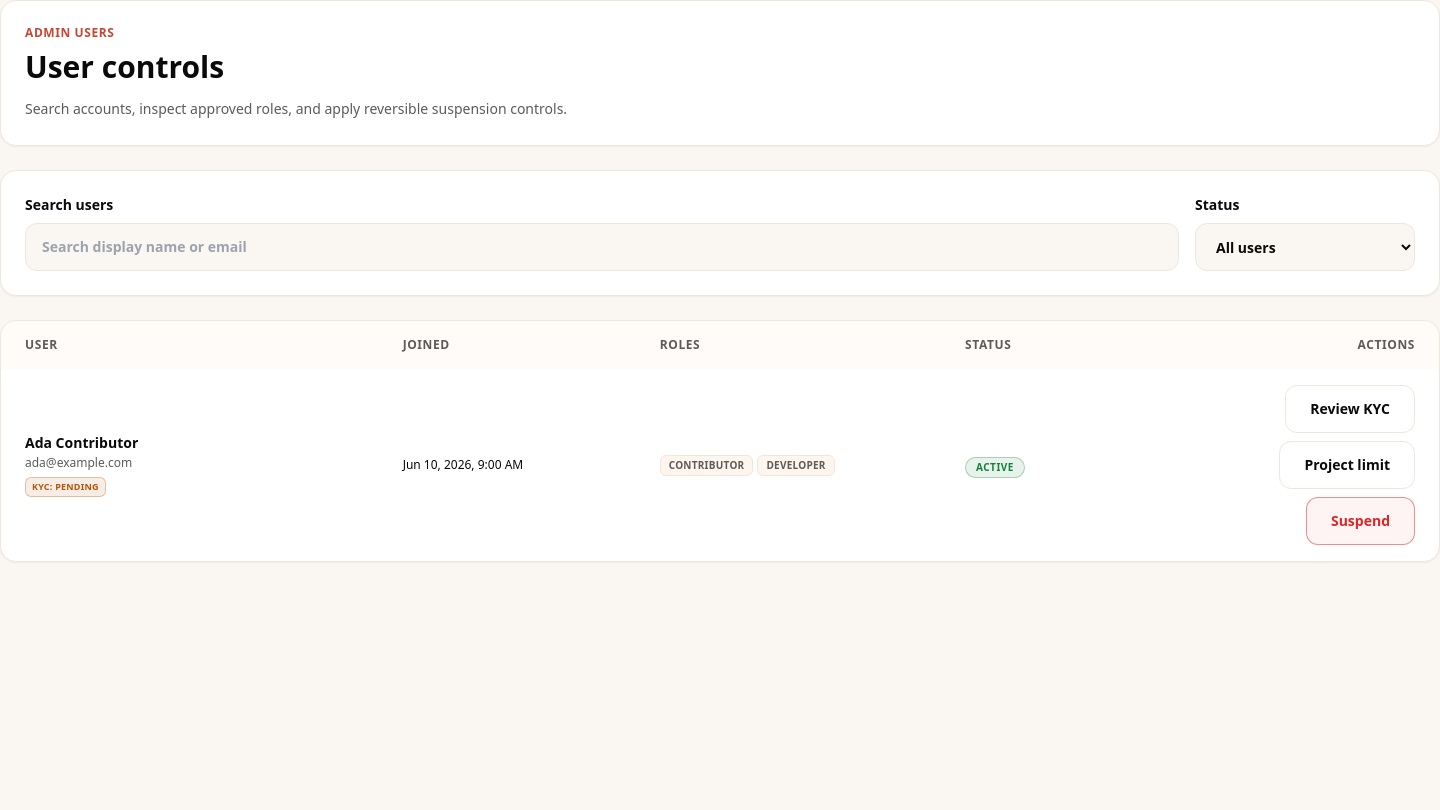
AdminUserDirectoryPanel › accepts a four-figure ceiling and refuses an implausible one
The width and height of the screenshot is (1440, 810).
Click the button "Project limit" at (1347, 465), box [1279,441,1415,489]
(page scrolled)
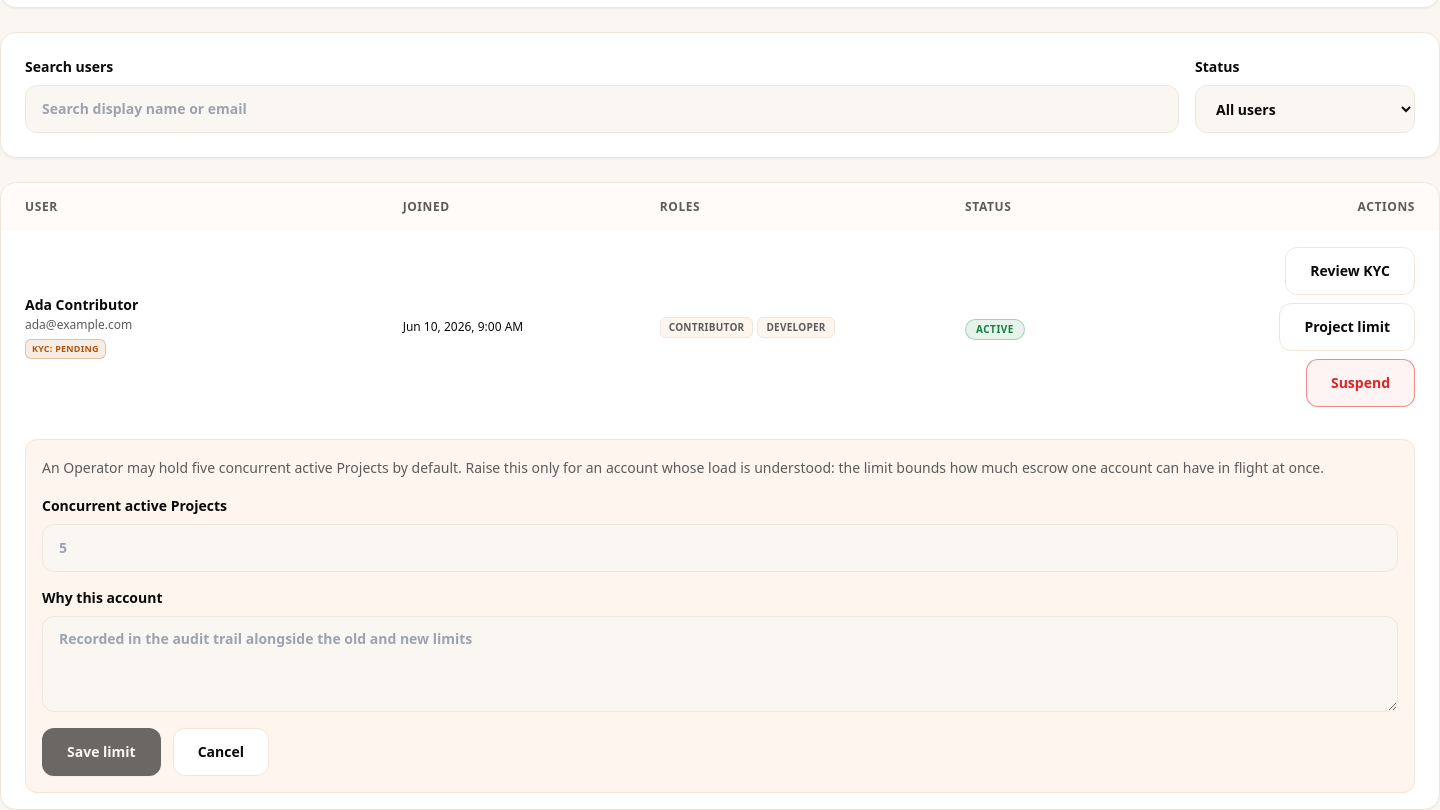
Type "High-volume Operator." into the text box labelled "Why this account" at (720, 664), box [42,616,1398,712]
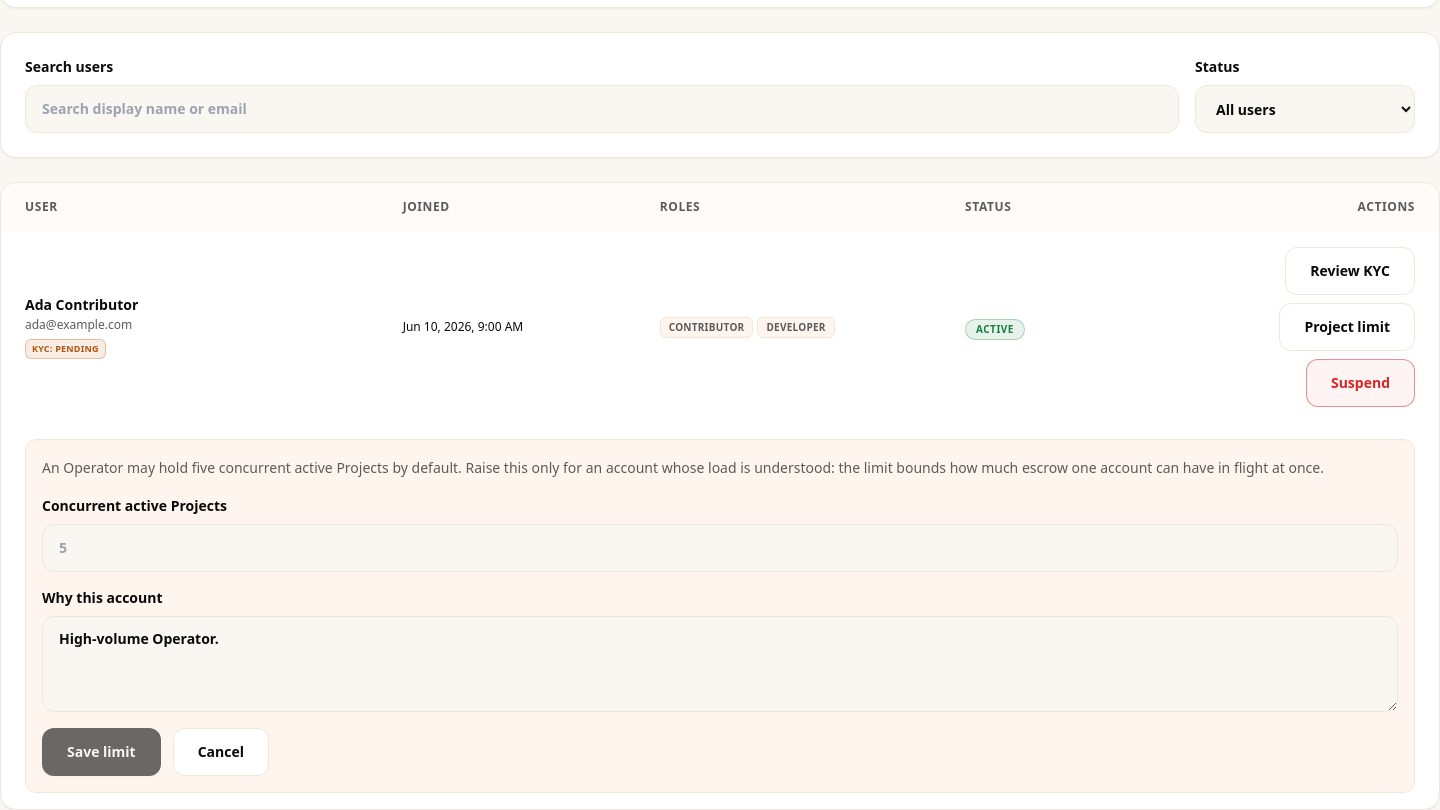
Type "1000" into the number field labelled "Concurrent active Projects" at (720, 548), box [42,524,1398,572]
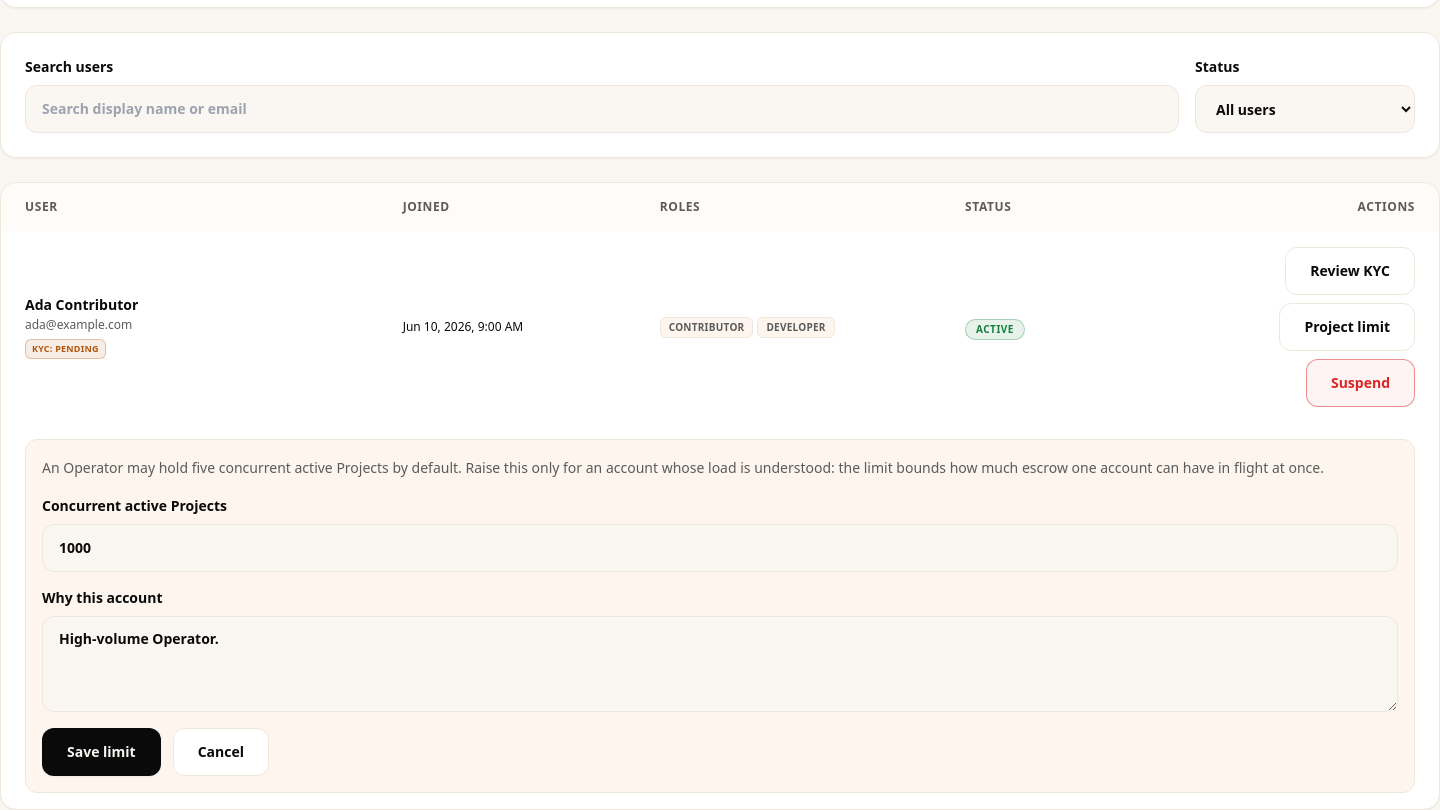
Now the button "Save limit" is enabled, box [42,728,161,776]
Replace the text in the number field labelled "Concurrent active Projects" with "10001" at (720, 548), box [42,524,1398,572]
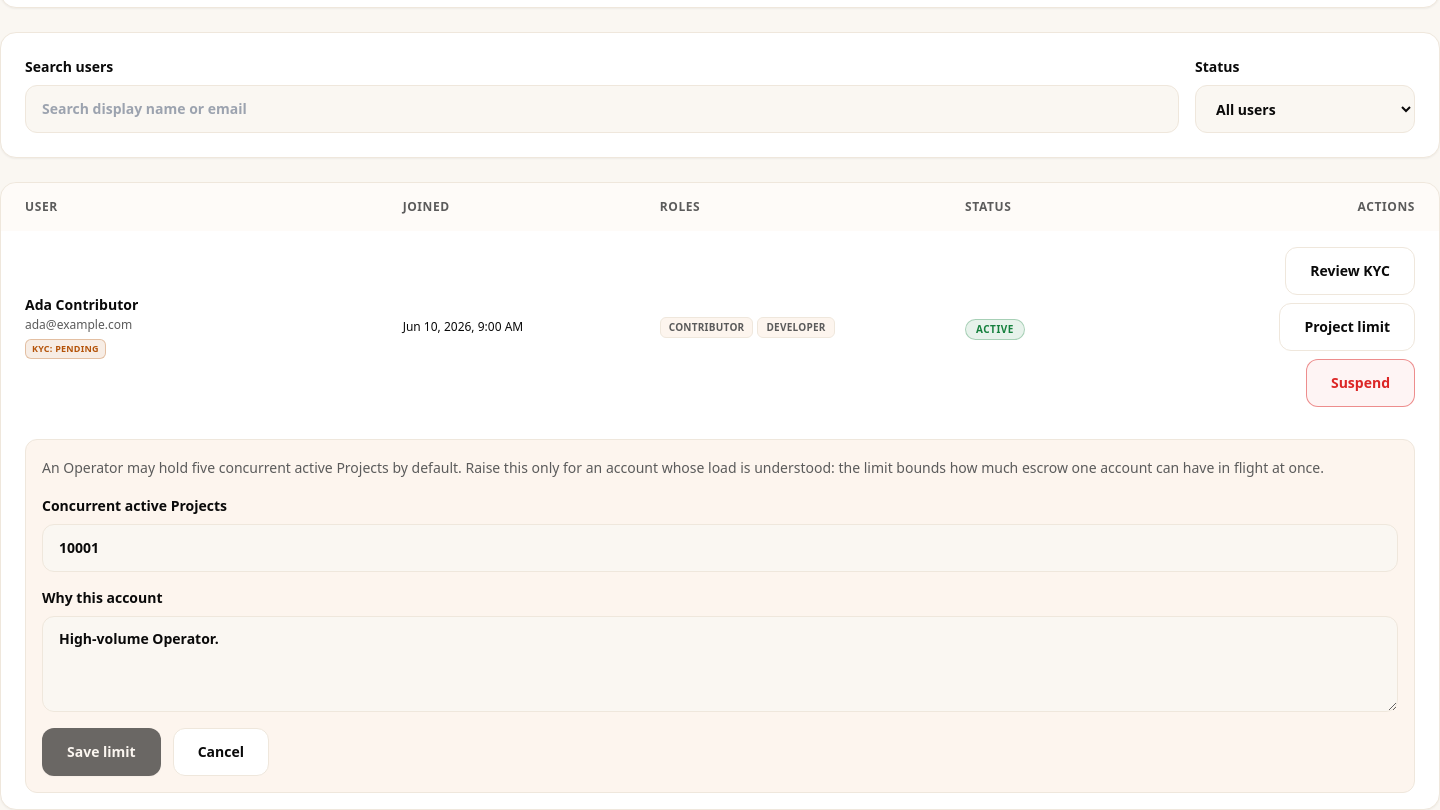
Now the button "Save limit" is disabled, box [42,728,161,776]
